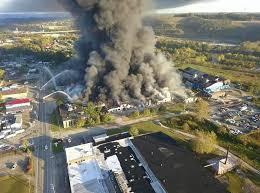smoke: (77, 1, 151, 92)
